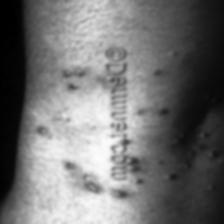Toxin: (61, 159, 99, 193), (55, 61, 85, 88), (29, 128, 52, 138), (154, 103, 168, 117)
